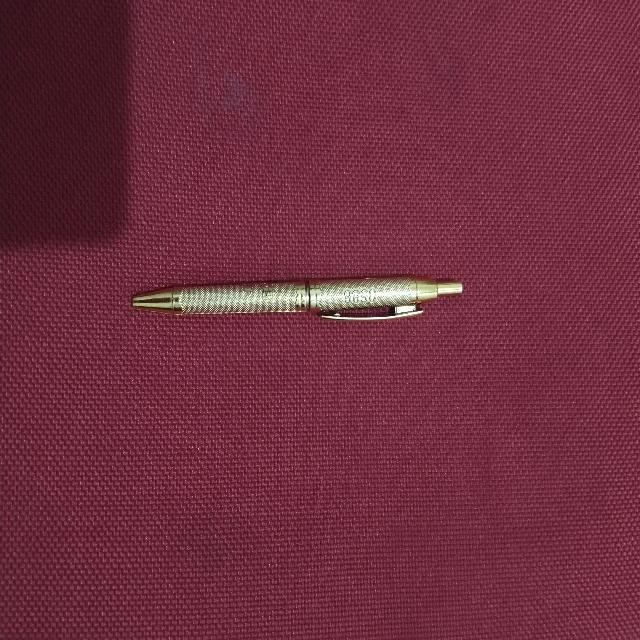signature pen: (132, 277, 461, 319)
